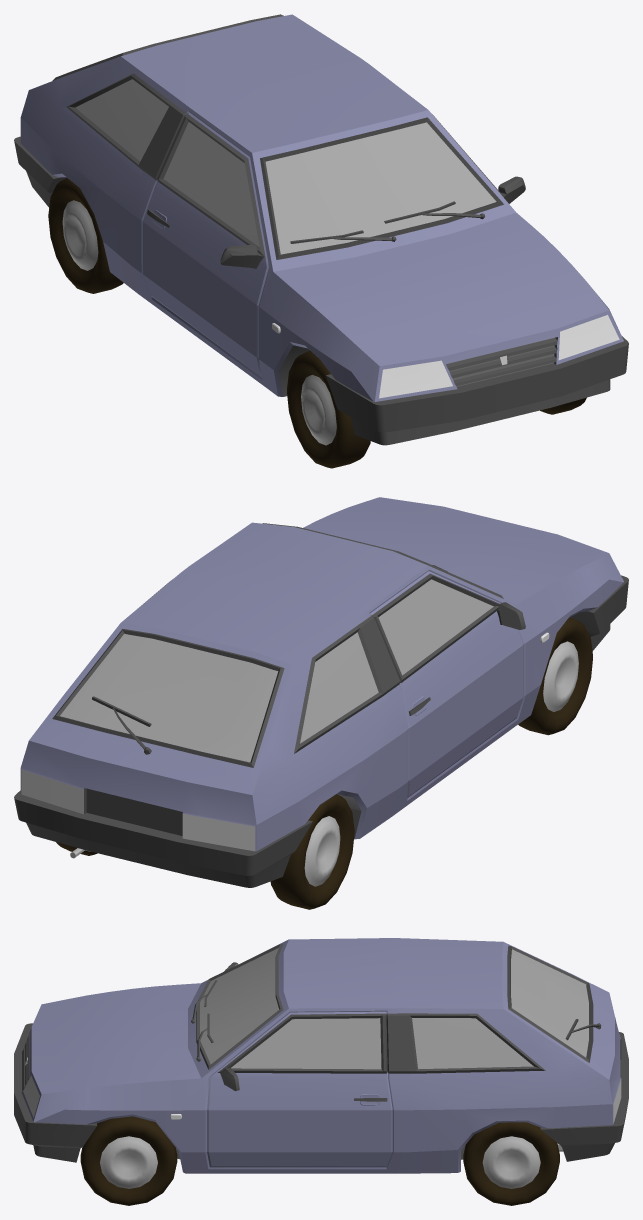
Rendered from Sputnik.fbx.
The picture shows the model from 3 angles, top to bottom: view 1: azimuth 30°, elevation 25°; view 2: azimuth 150°, elevation 25°; view 3: azimuth 270°, elevation 25°; orthographic projection. The views are drawn at different scales.
Visible parts, largest first — view 1: Body, Wheel_FR, Wheel_RR; view 2: Body, Wheel_RR, Wheel_FR; view 3: Body, Wheel_FL, Wheel_RL.
Part boxes in pixels (x1,y1,x2,y2): Body: (14,14,628,445); Wheel_FR: (287,350,370,468); Wheel_RR: (48,178,123,293); Body: (14,497,628,887); Wheel_RR: (270,794,354,909); Wheel_FR: (518,617,592,735); Body: (14,938,628,1173); Wheel_FL: (80,1116,177,1205); Wheel_RL: (463,1122,559,1205).
Size of the model in its own units: 187 by 138 by 408.
